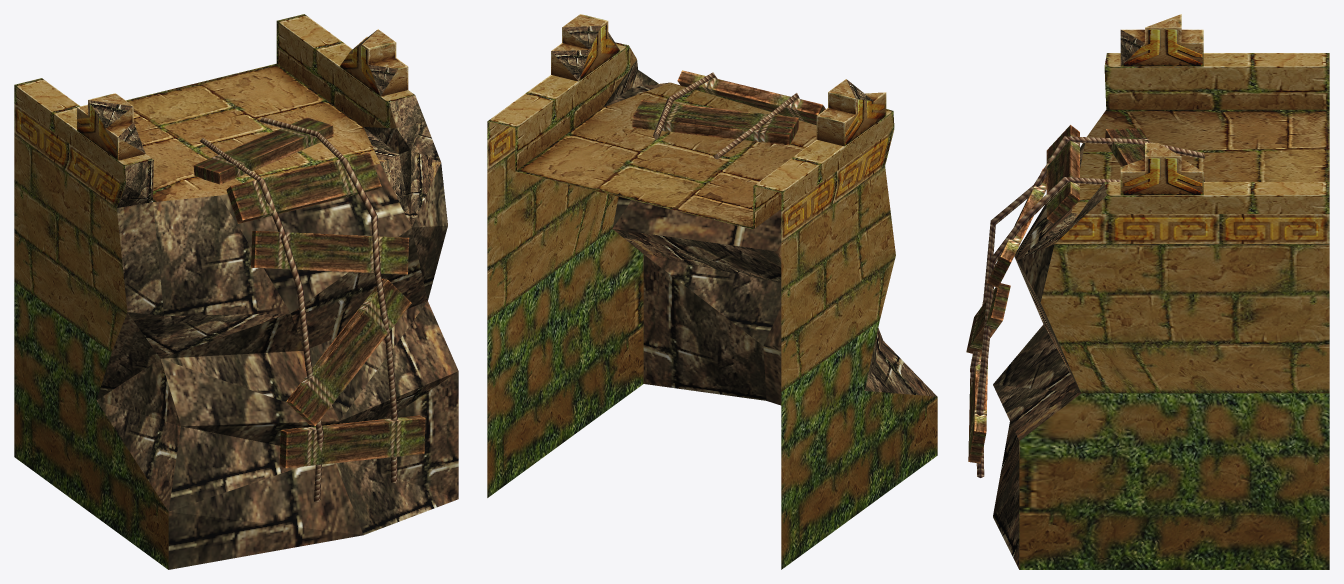
The model's file is TempleRoad08.FBX.
The picture shows the model from 3 angles, left to right: view 1: azimuth 30°, elevation 25°; view 2: azimuth 150°, elevation 25°; view 3: azimuth 270°, elevation 25°; orthographic projection.
Parts seen in each view (by area): view 1: TempleRoad08; view 2: TempleRoad08; view 3: TempleRoad08.
Part boxes in pixels (x1,y1,x2,y2): TempleRoad08: (14, 14, 458, 569); TempleRoad08: (487, 14, 937, 569); TempleRoad08: (966, 14, 1329, 569).
Size of the model in its own units: 500 by 677 by 539.
